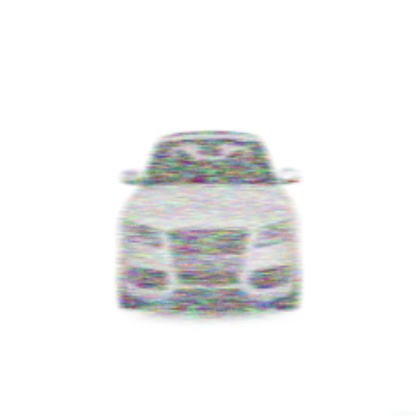Vehicle: (117, 132, 300, 314)
